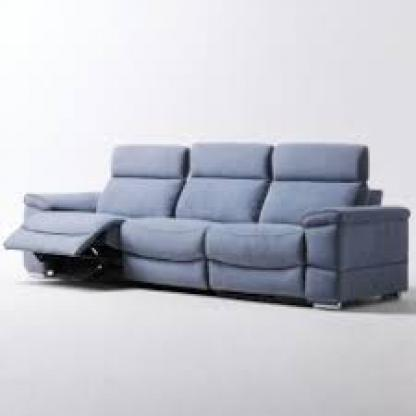sofa: (19, 142, 410, 316)
